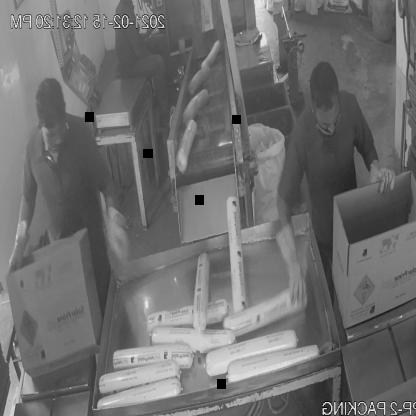glove: (271, 212, 313, 312), (5, 196, 34, 284), (102, 190, 131, 273), (364, 150, 404, 198)
